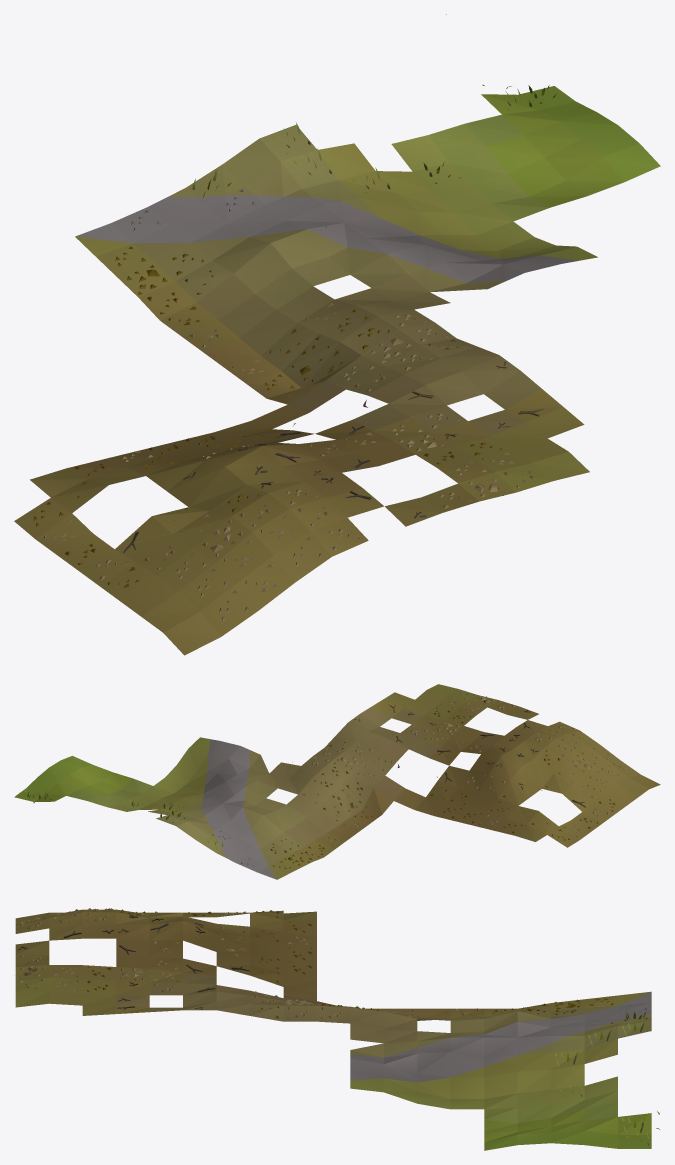
Rendered from gobby-wanderplace.fbx.
3 views of the same model, one above another, from view 1: azimuth 30°, elevation 25°; view 2: azimuth 150°, elevation 25°; view 3: azimuth 270°, elevation 25° (orthographic). The views are drawn at different scales.
Visible parts, largest first — view 1: gobby wander place; view 2: gobby wander place; view 3: gobby wander place.
Boxes of the visible parts, x1,y1,x2,y2 form: gobby wander place: [14, 14, 660, 655]; gobby wander place: [14, 684, 660, 879]; gobby wander place: [15, 908, 659, 1150].
Bounding box in the file's own units: 5613 × 1263 × 5168.
